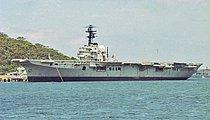MIL_Ship: (12, 24, 203, 82)
